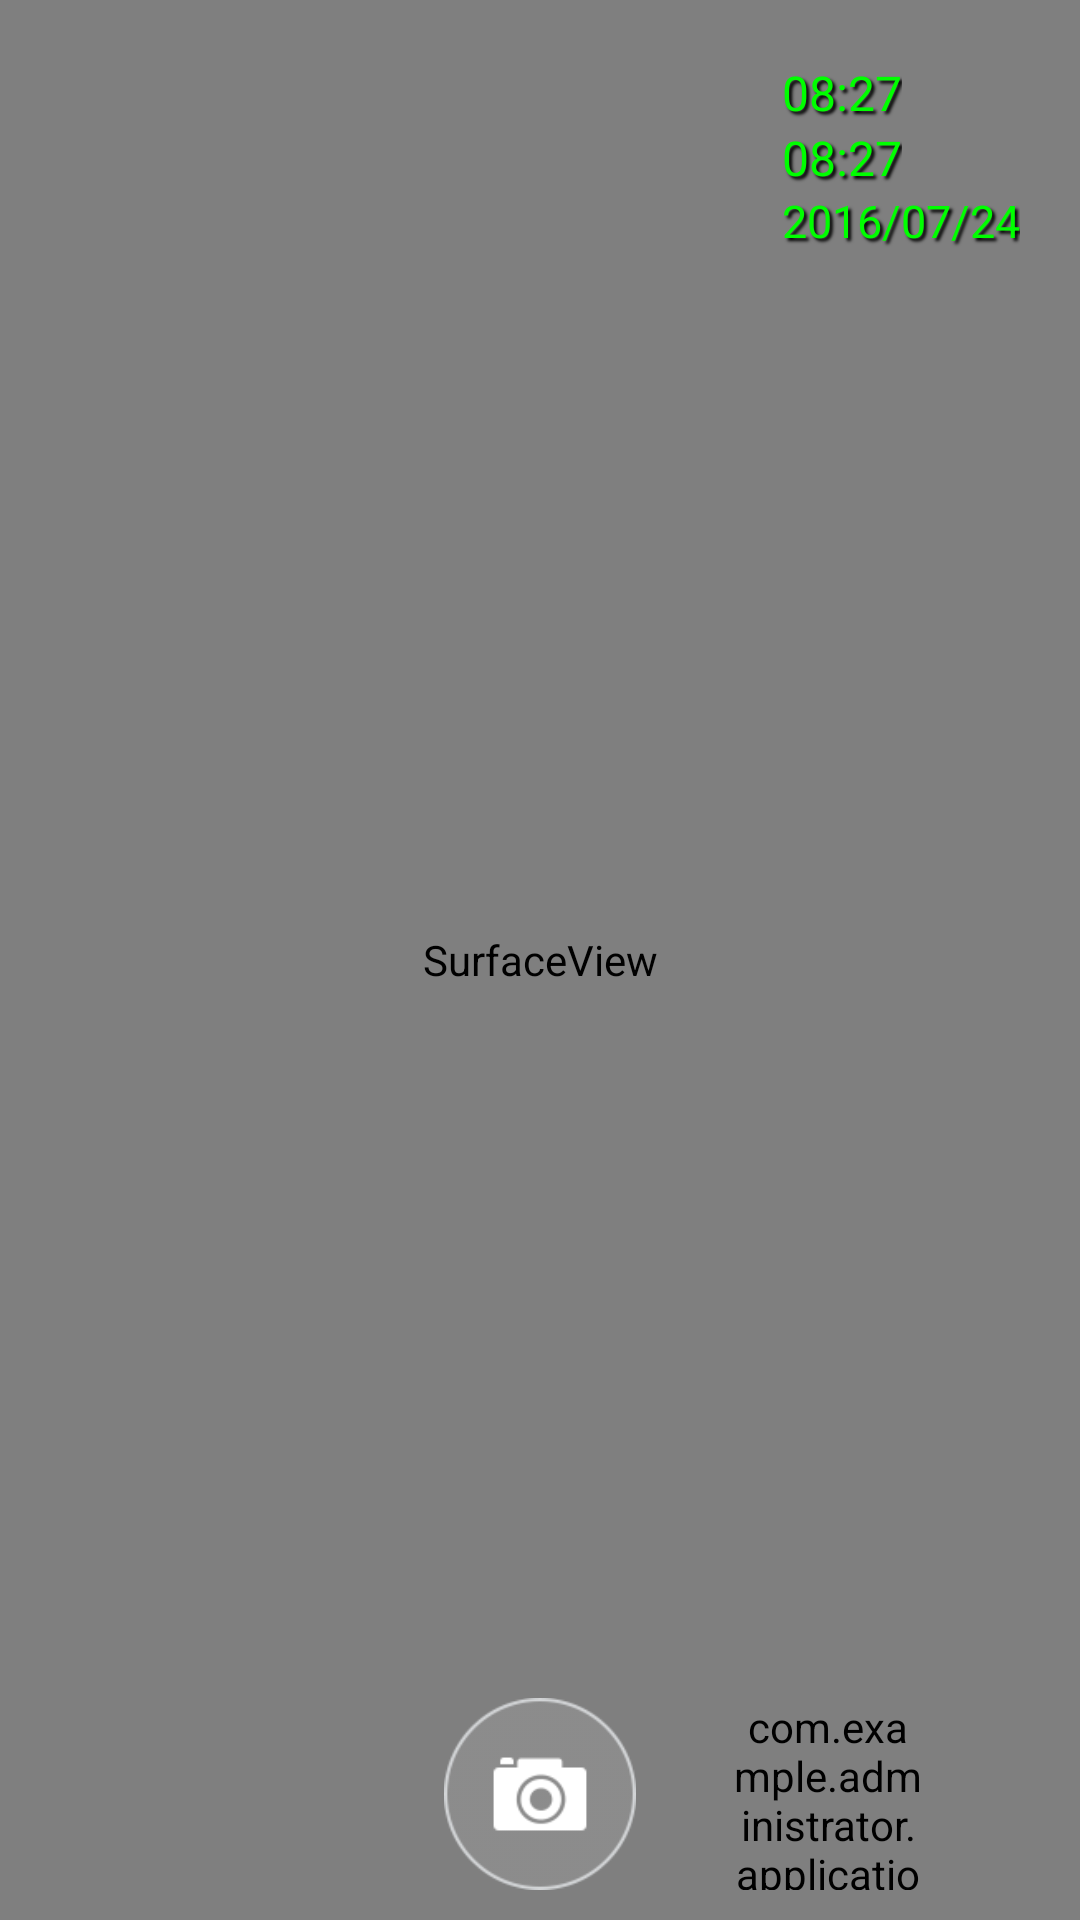

Screen size 1080x1920. Icon name, then its center in pixels as [x,y]:
camera: [540,1794]
